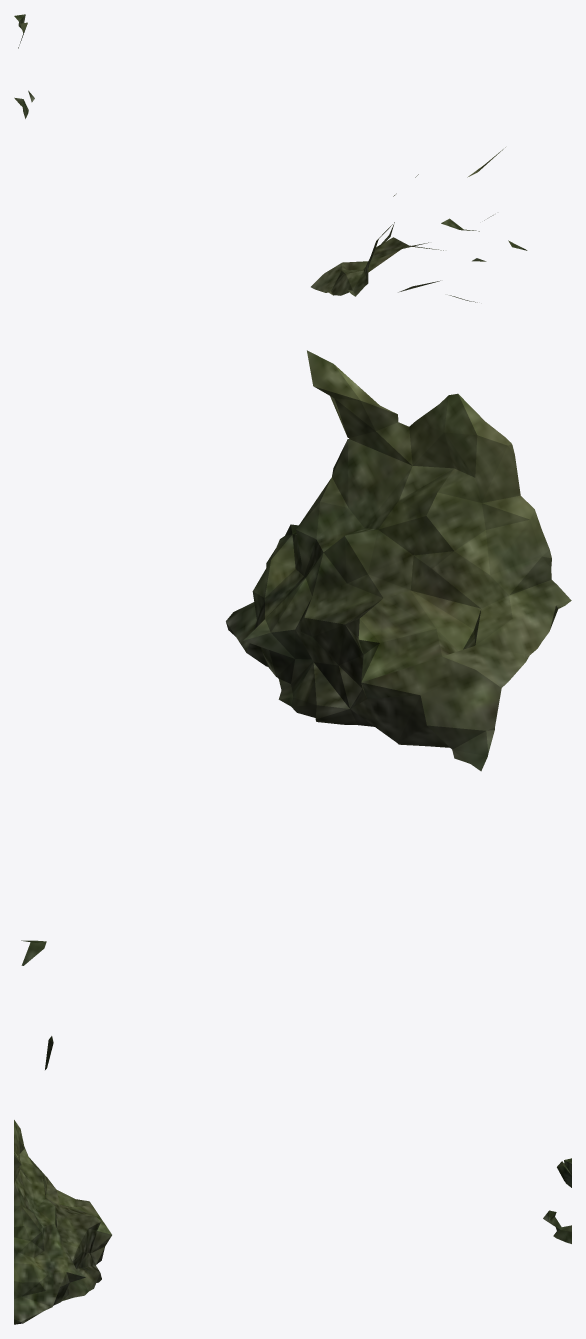
The picture shows the model from 3 angles, top to bottom: view 1: azimuth 30°, elevation 25°; view 2: azimuth 150°, elevation 25°; view 3: azimuth 270°, elevation 25°; orthographic projection. The views are drawn at different scales.
Size of the model in its own units: 2.16 by 1.77 by 5.9.
1 material, 1 textured.
